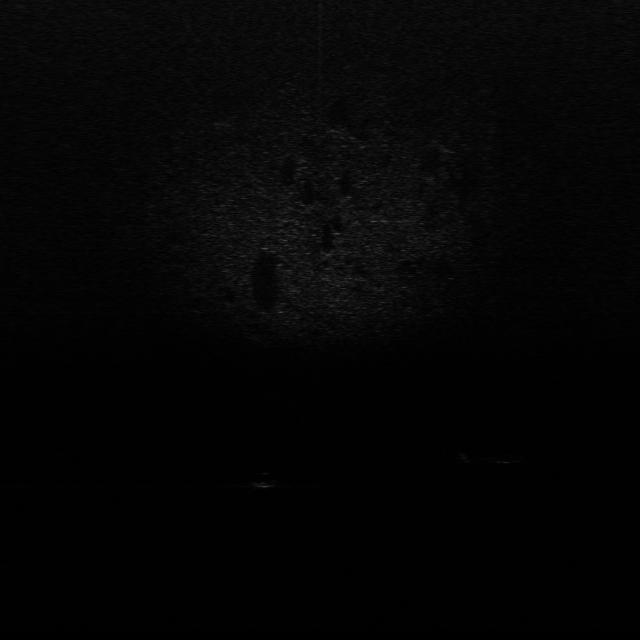ball: (250, 466, 280, 492)
human body: (456, 442, 532, 468)
